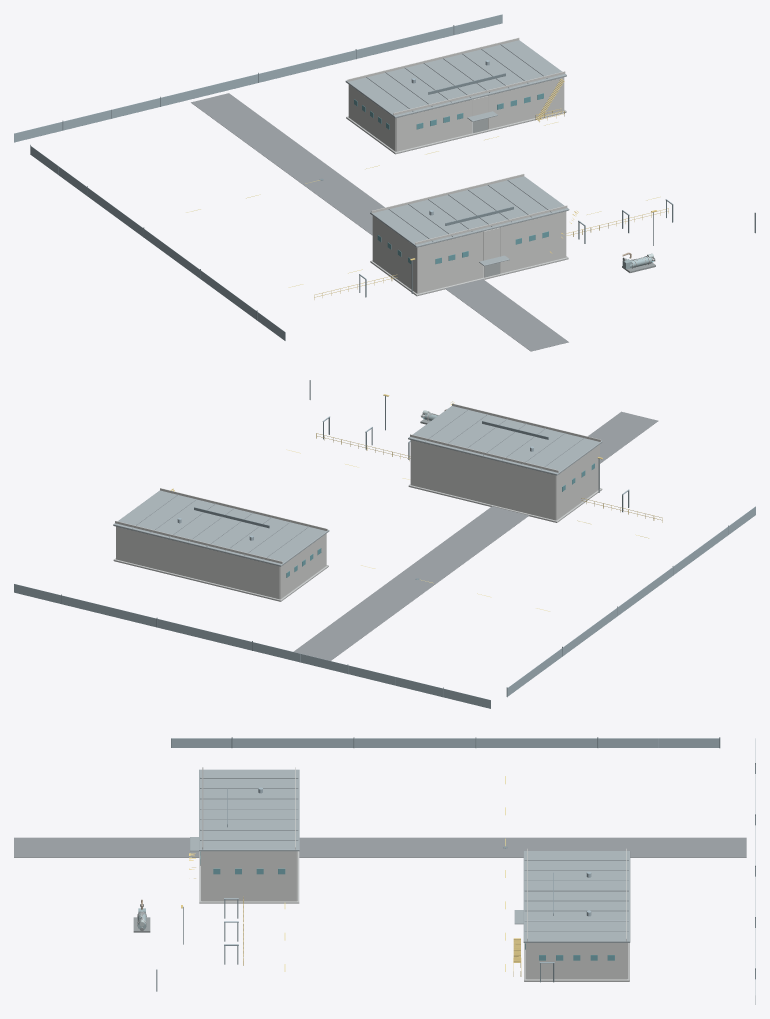
The picture shows the model from 3 angles, top to bottom: view 1: azimuth 30°, elevation 25°; view 2: azimuth 150°, elevation 25°; view 3: azimuth 270°, elevation 25°; orthographic projection. The views are drawn at different scales.
Visible parts, largest first — view 1: render-batch-13, render-batch-6, render-batch-3, render-batch-8, render-batch-12, render-batch-1, render-batch-14, render-batch-0; view 2: render-batch-13, render-batch-6, render-batch-3, render-batch-8, render-batch-12, render-batch-1; view 3: render-batch-6, render-batch-3, render-batch-13, render-batch-8, render-batch-12, render-batch-1, render-batch-0.
Boxes of the visible parts, x1,y1,x2,y2 form: render-batch-13: (347,37,567,293); render-batch-6: (345,40,569,266); render-batch-3: (191,93,568,351); render-batch-8: (14,14,673,340); render-batch-12: (346,110,568,296); render-batch-1: (30,25,755,320); render-batch-14: (314,79,668,299); render-batch-0: (354,93,548,264); render-batch-13: (115,403,600,599); render-batch-6: (113,406,602,566); render-batch-3: (293,411,658,660); render-batch-8: (14,416,755,708); render-batch-12: (113,484,602,601); render-batch-1: (61,380,728,697); render-batch-6: (190,769,630,942); render-batch-3: (14,837,746,857); render-batch-13: (201,767,628,979); render-batch-8: (171,738,755,1004); render-batch-12: (199,851,629,981); render-batch-1: (156,737,755,991); render-batch-0: (200,851,614,960).
Size of the model in its own units: 102 by 10.8 by 125.
